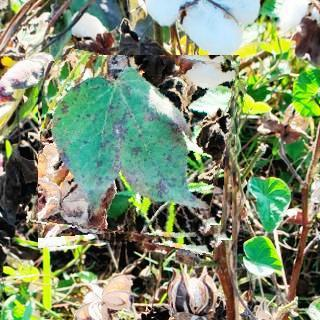leaf spot: (38, 56, 241, 250)
